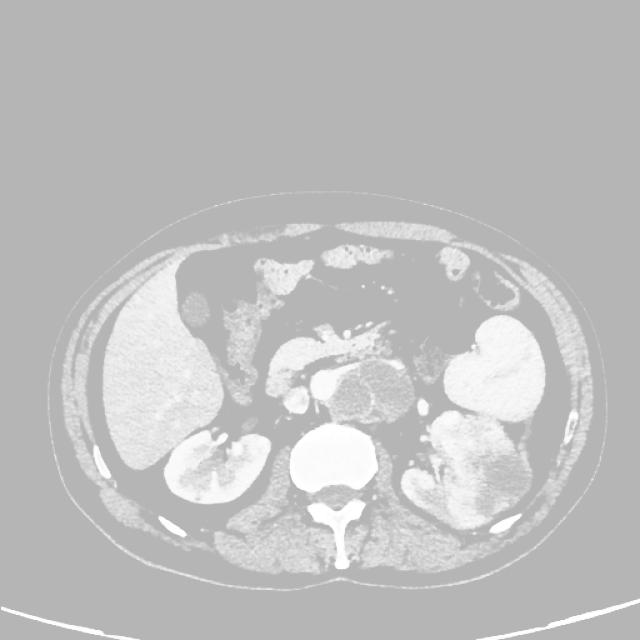TUMOR: (109, 279, 606, 530)
